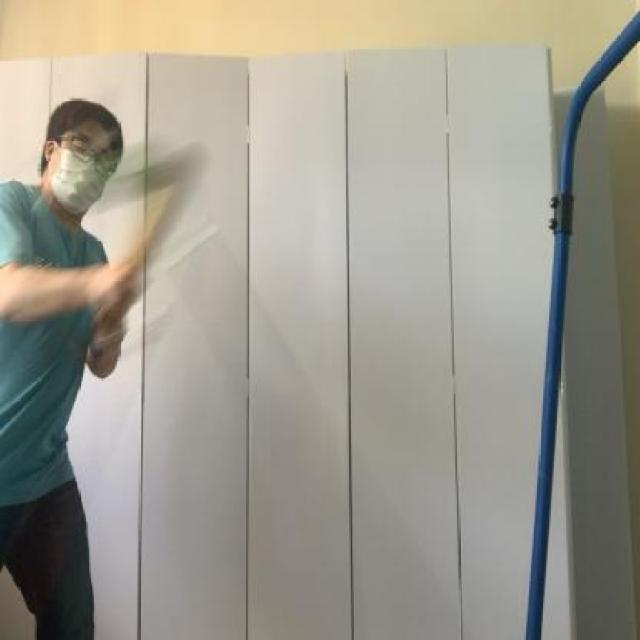baseball: (69, 119, 183, 210)
